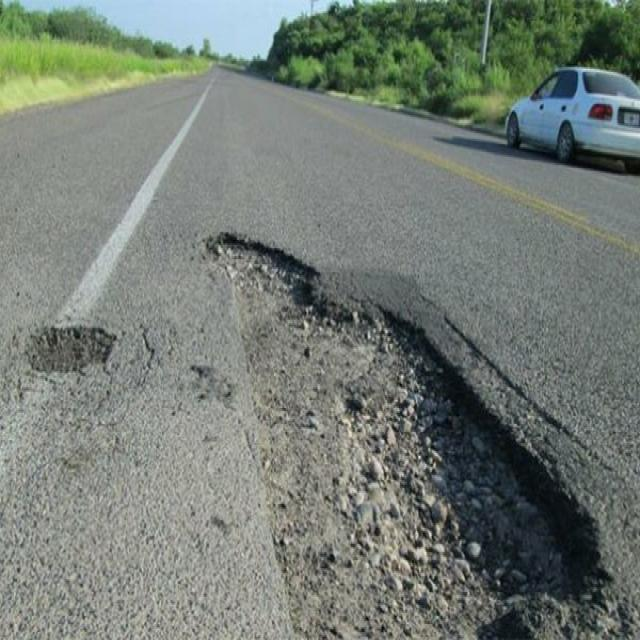Pothole: (165, 200, 640, 635), (16, 301, 133, 403)
